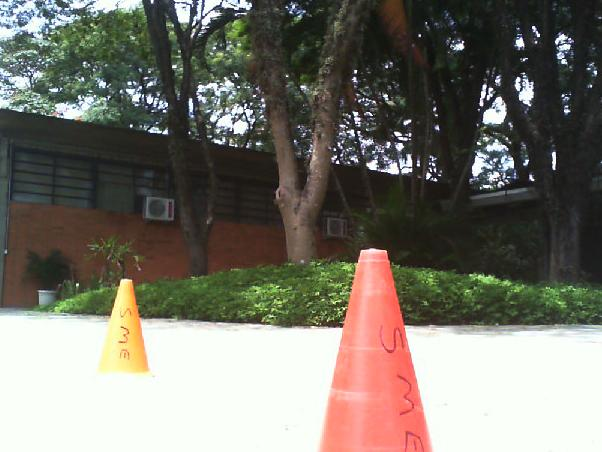0 cone: (318, 248, 436, 452), (100, 278, 148, 375)
